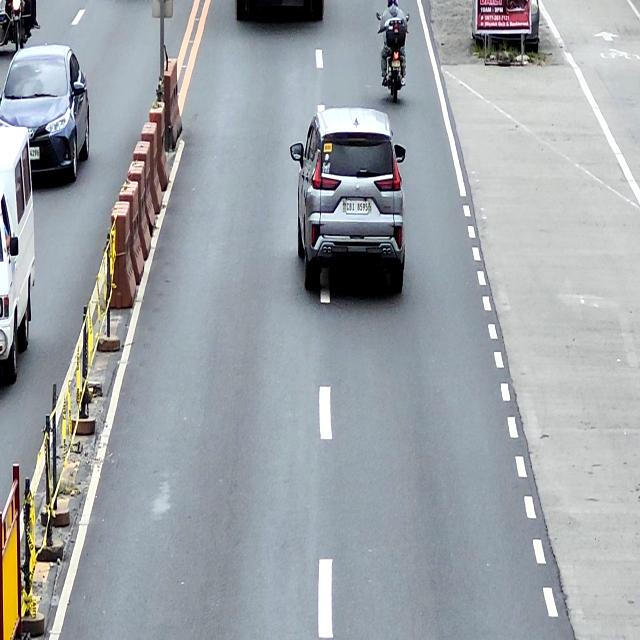Car: (290, 106, 406, 294), (0, 44, 91, 182), (0, 126, 36, 385)
License-Plate: (346, 200, 369, 214), (28, 146, 40, 160), (392, 60, 400, 67)
Motorcycle: (375, 11, 410, 104)
